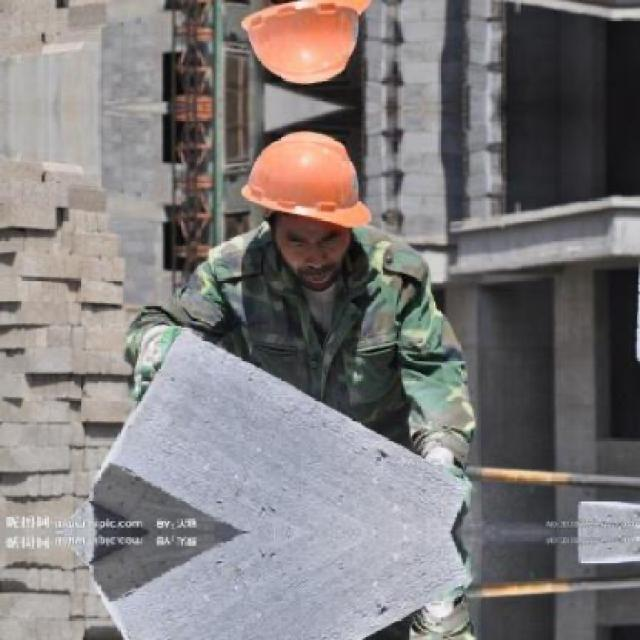helmet: (234, 114, 377, 280), (232, 0, 377, 100)
